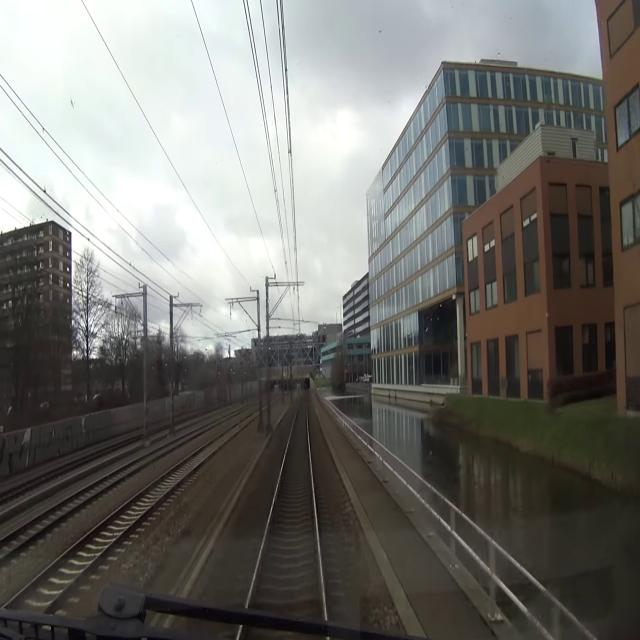rail-track: (0, 434, 226, 639), (246, 398, 323, 630), (0, 481, 105, 553)
